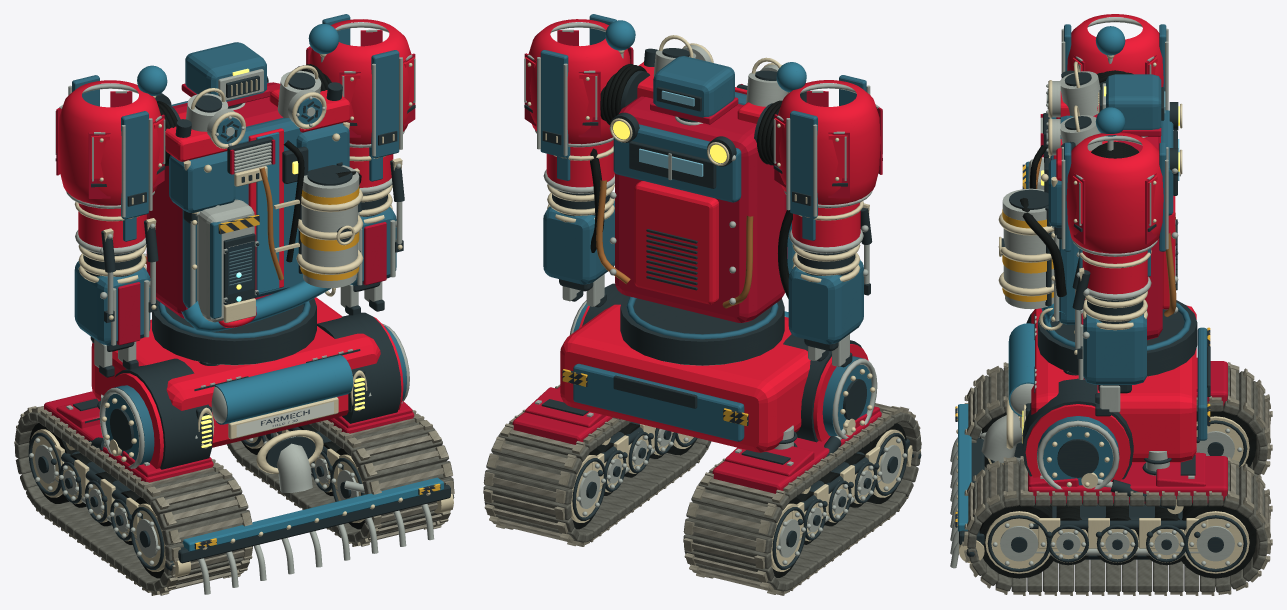
File: frontier-mech-BGiTmrkU.glb
3 renders of one model, left to right at view 1: azimuth 30°, elevation 25°; view 2: azimuth 150°, elevation 25°; view 3: azimuth 270°, elevation 25°, orthographic. The views are drawn at different scales.
Visible parts, largest first — view 1: lower-chassis-mech-dark-machinery, body-mech-blue-armour, body-mech-exposed-steel, lower-chassis-mech-crimson-enamel, arm-left-mech-crimson-enamel, body-mech-blue-pipework, arm-left-mech-blue-armour, arm-right-mech-crimson-enamel, body-mech-dark-machinery, lower-chassis-mech-blue-pipework, body-mech-deep-red-enamel, body-mech-warm-alloy (+45 smaller); view 2: body-mech-deep-red-enamel, lower-chassis-mech-crimson-enamel, lower-chassis-mech-dark-machinery, arm-left-mech-crimson-enamel, body-mech-crimson-enamel, lower-chassis-mech-blue-armour, arm-left-mech-blue-armour, body-mech-blue-armour, arm-right-mech-blue-armour, arm-right-mech-crimson-enamel, body-mech-dark-machinery, track-left-mech-deep-red-enamel (+44 smaller); view 3: arm-right-mech-crimson-enamel, lower-chassis-mech-crimson-enamel, lower-chassis-mech-dark-machinery, body-mech-exposed-steel, body-mech-blue-armour, arm-right-mech-blue-armour, lower-chassis-mech-blue-armour, track-right-mech-deep-red-enamel, arm-left-mech-crimson-enamel, arm-right-mech-exposed-steel, lower-chassis-mech-exposed-steel, body-mech-dark-machinery (+67 smaller).
Boxes of the visible parts, left/top/right/bottom form: lower-chassis-mech-dark-machinery: left=97, top=298, right=401, bottom=469; body-mech-blue-armour: left=169, top=42, right=349, bottom=318; body-mech-exposed-steel: left=144, top=57, right=359, bottom=322; lower-chassis-mech-crimson-enamel: left=91, top=297, right=403, bottom=468; arm-left-mech-crimson-enamel: left=56, top=80, right=164, bottom=247; body-mech-blue-pipework: left=137, top=24, right=338, bottom=331; arm-left-mech-blue-armour: left=72, top=75, right=150, bottom=345; arm-right-mech-crimson-enamel: left=306, top=19, right=415, bottom=187; body-mech-dark-machinery: left=175, top=72, right=352, bottom=304; lower-chassis-mech-blue-pipework: left=215, top=355, right=353, bottom=424; body-mech-deep-red-enamel: left=146, top=82, right=282, bottom=318; body-mech-warm-alloy: left=153, top=54, right=363, bottom=322; body-mech-deep-red-enamel: left=615, top=84, right=787, bottom=322; lower-chassis-mech-crimson-enamel: left=560, top=304, right=868, bottom=452; lower-chassis-mech-dark-machinery: left=582, top=283, right=866, bottom=446; arm-left-mech-crimson-enamel: left=774, top=80, right=880, bottom=247; body-mech-crimson-enamel: left=634, top=62, right=787, bottom=304; lower-chassis-mech-blue-armour: left=573, top=296, right=871, bottom=441; arm-left-mech-blue-armour: left=788, top=75, right=866, bottom=344; body-mech-blue-armour: left=613, top=56, right=795, bottom=274; arm-right-mech-blue-armour: left=540, top=14, right=616, bottom=284; arm-right-mech-crimson-enamel: left=524, top=19, right=633, bottom=187; body-mech-dark-machinery: left=629, top=48, right=810, bottom=290; track-left-mech-deep-red-enamel: left=712, top=406, right=881, bottom=493; arm-right-mech-crimson-enamel: left=1066, top=132, right=1163, bottom=294; lower-chassis-mech-crimson-enamel: left=1025, top=305, right=1196, bottom=480; lower-chassis-mech-dark-machinery: left=1022, top=300, right=1210, bottom=479; body-mech-exposed-steel: left=1002, top=58, right=1180, bottom=321; body-mech-blue-armour: left=1025, top=74, right=1173, bottom=324; arm-right-mech-blue-armour: left=1064, top=142, right=1166, bottom=384; lower-chassis-mech-blue-armour: left=1037, top=302, right=1207, bottom=485; track-right-mech-deep-red-enamel: left=1028, top=452, right=1227, bottom=503; arm-left-mech-crimson-enamel: left=1067, top=14, right=1163, bottom=87; arm-right-mech-exposed-steel: left=1061, top=135, right=1168, bottom=412; lower-chassis-mech-exposed-steel: left=981, top=316, right=1169, bottom=489; body-mech-dark-machinery: left=1001, top=70, right=1177, bottom=306.
Size of the model in its own units: 3.3 by 4.41 by 2.79.
16 materials, 13 textured.
